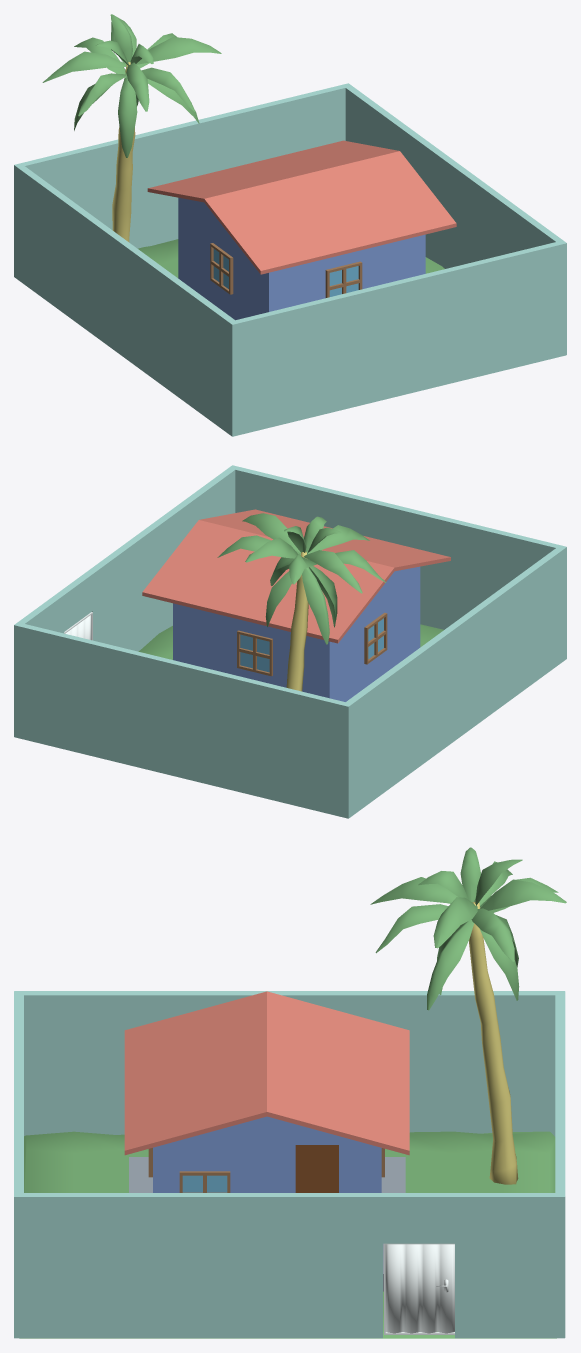
The model's file is casacoqueiro.fbx.
The picture shows the model from 3 angles, top to bottom: view 1: azimuth 30°, elevation 25°; view 2: azimuth 150°, elevation 25°; view 3: azimuth 270°, elevation 25°; orthographic projection. The views are drawn at different scales.
Visible parts, largest first — view 1: Plane.012; view 2: Plane.012; view 3: Plane.012.
Part boxes in pixels (<box>): Plane.012: <box>14,14,566,436</box>; Plane.012: <box>14,465,566,818</box>; Plane.012: <box>14,847,566,1338</box>.
Bounding box in the file's own units: 960 × 725 × 1089.
